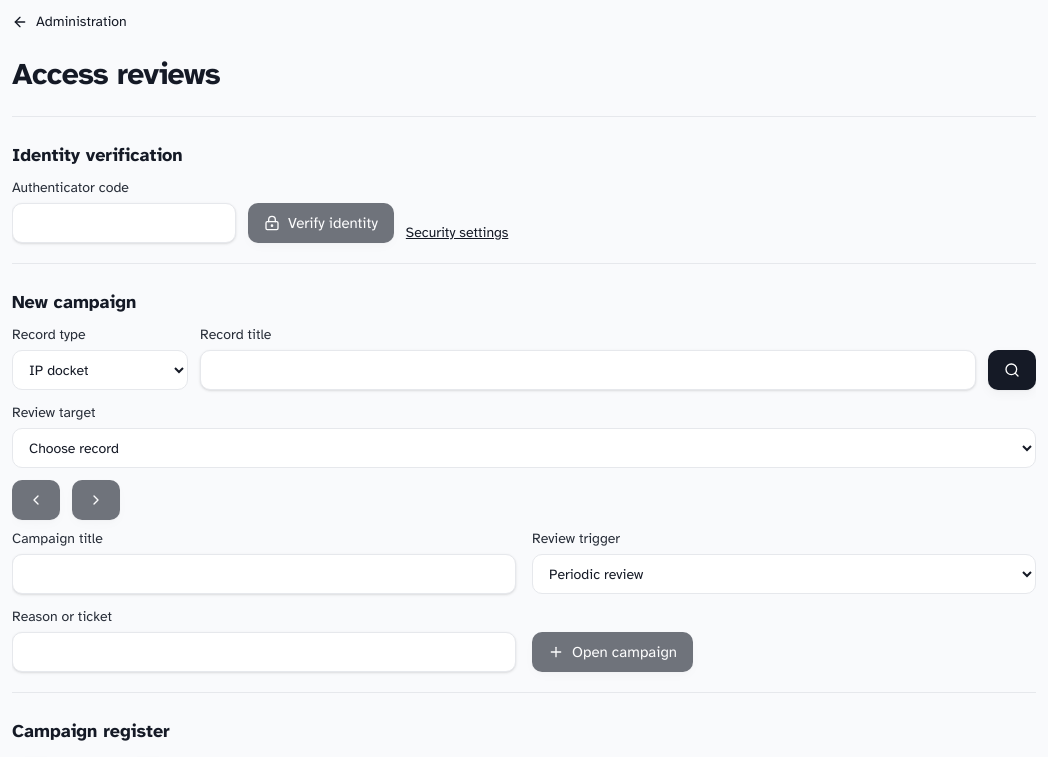
Test case: Access review screen › retains source inputs after rejected creation
Step 1. Select "Review target" in the dropdown labelled "Review target" → (524, 448), box [12,428,1036,468]
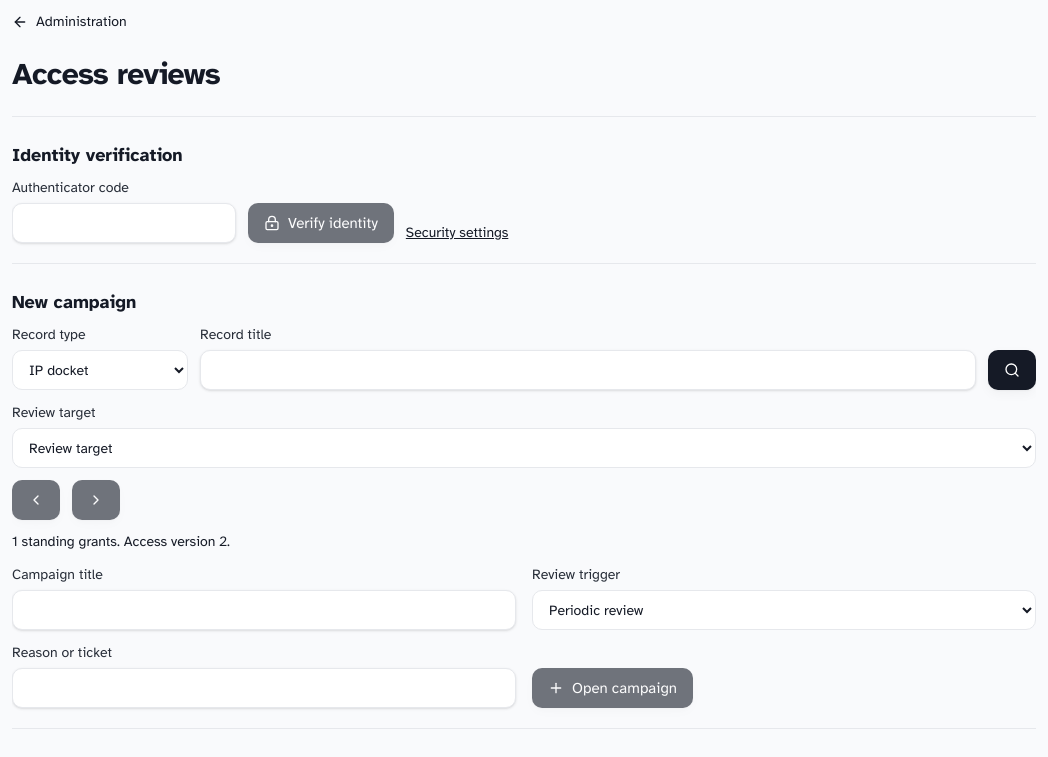
Check: the text "1 standing grants. Access version 2." is shown, box [12,533,230,550]
Step 2. Type "September review" into the field labelled "Campaign title" → (264, 610), box [12,590,516,630]
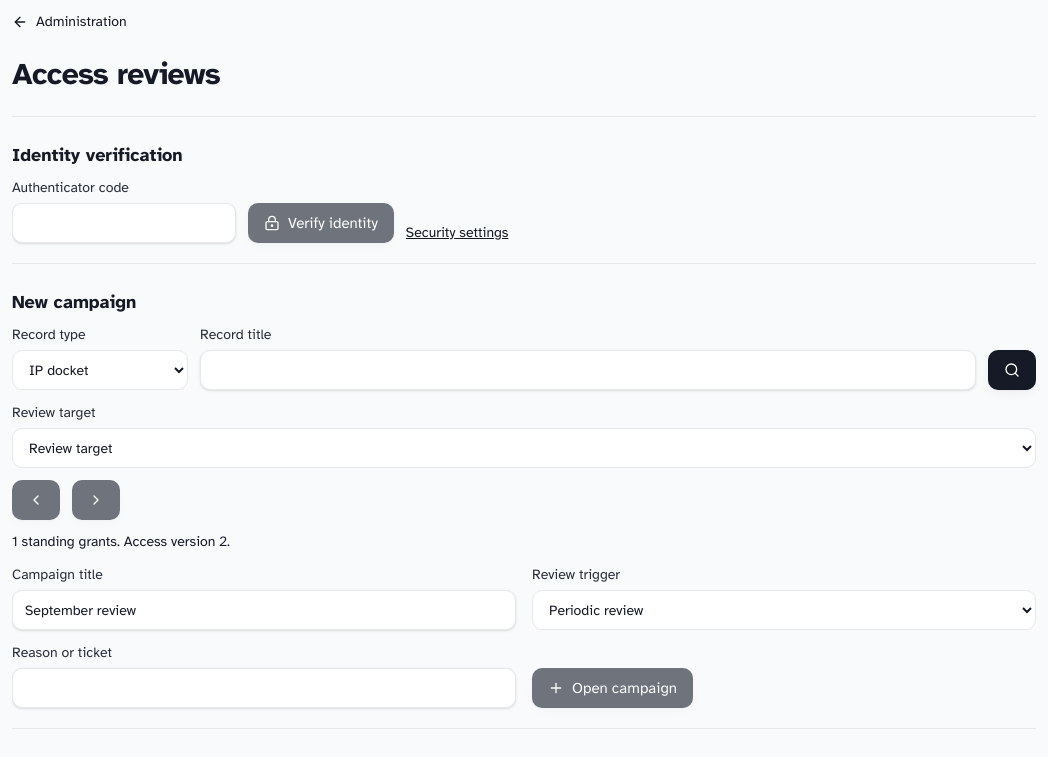
Step 3. Type "Periodic certification" into the field labelled "Reason or ticket" → (264, 688), box [12,668,516,708]
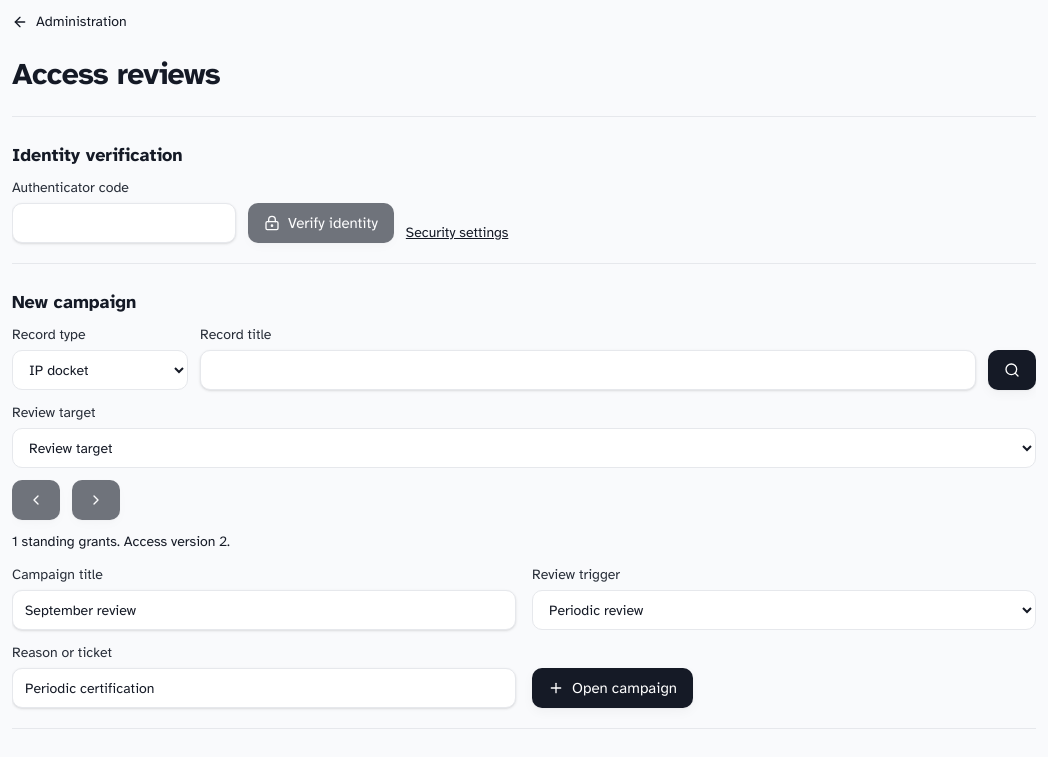
Step 4. Click the button "Open campaign" → (612, 688), box [532,668,693,708]
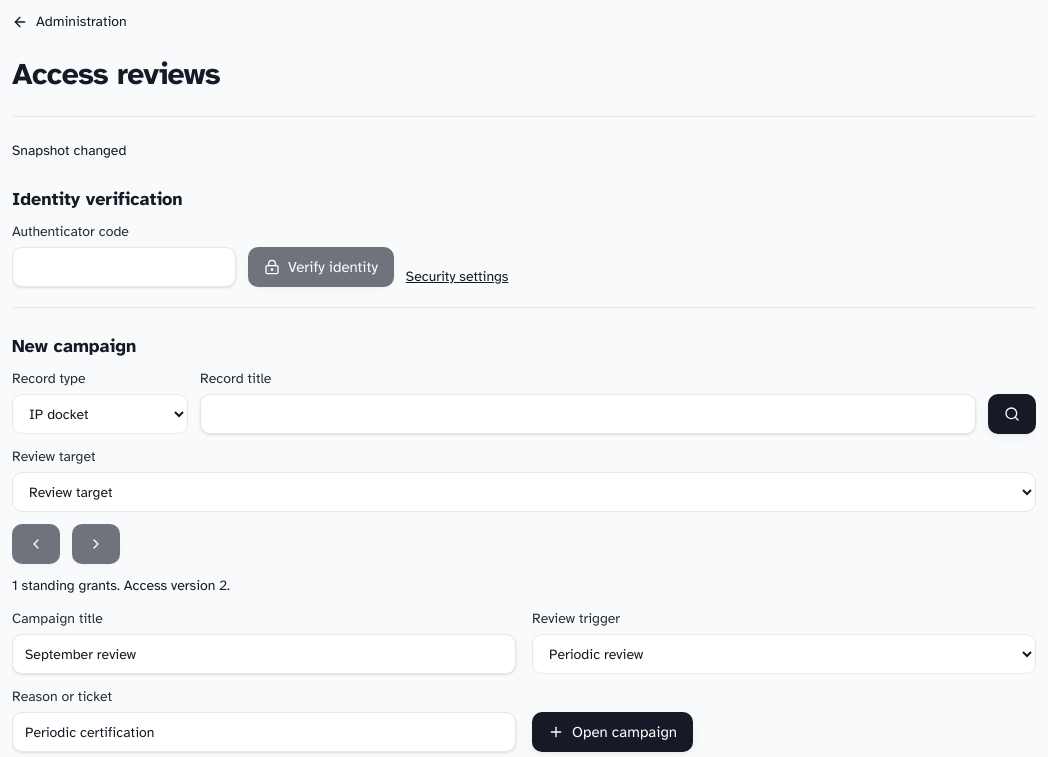
Check: the message "Snapshot changed" is shown, box [12,142,126,159]
